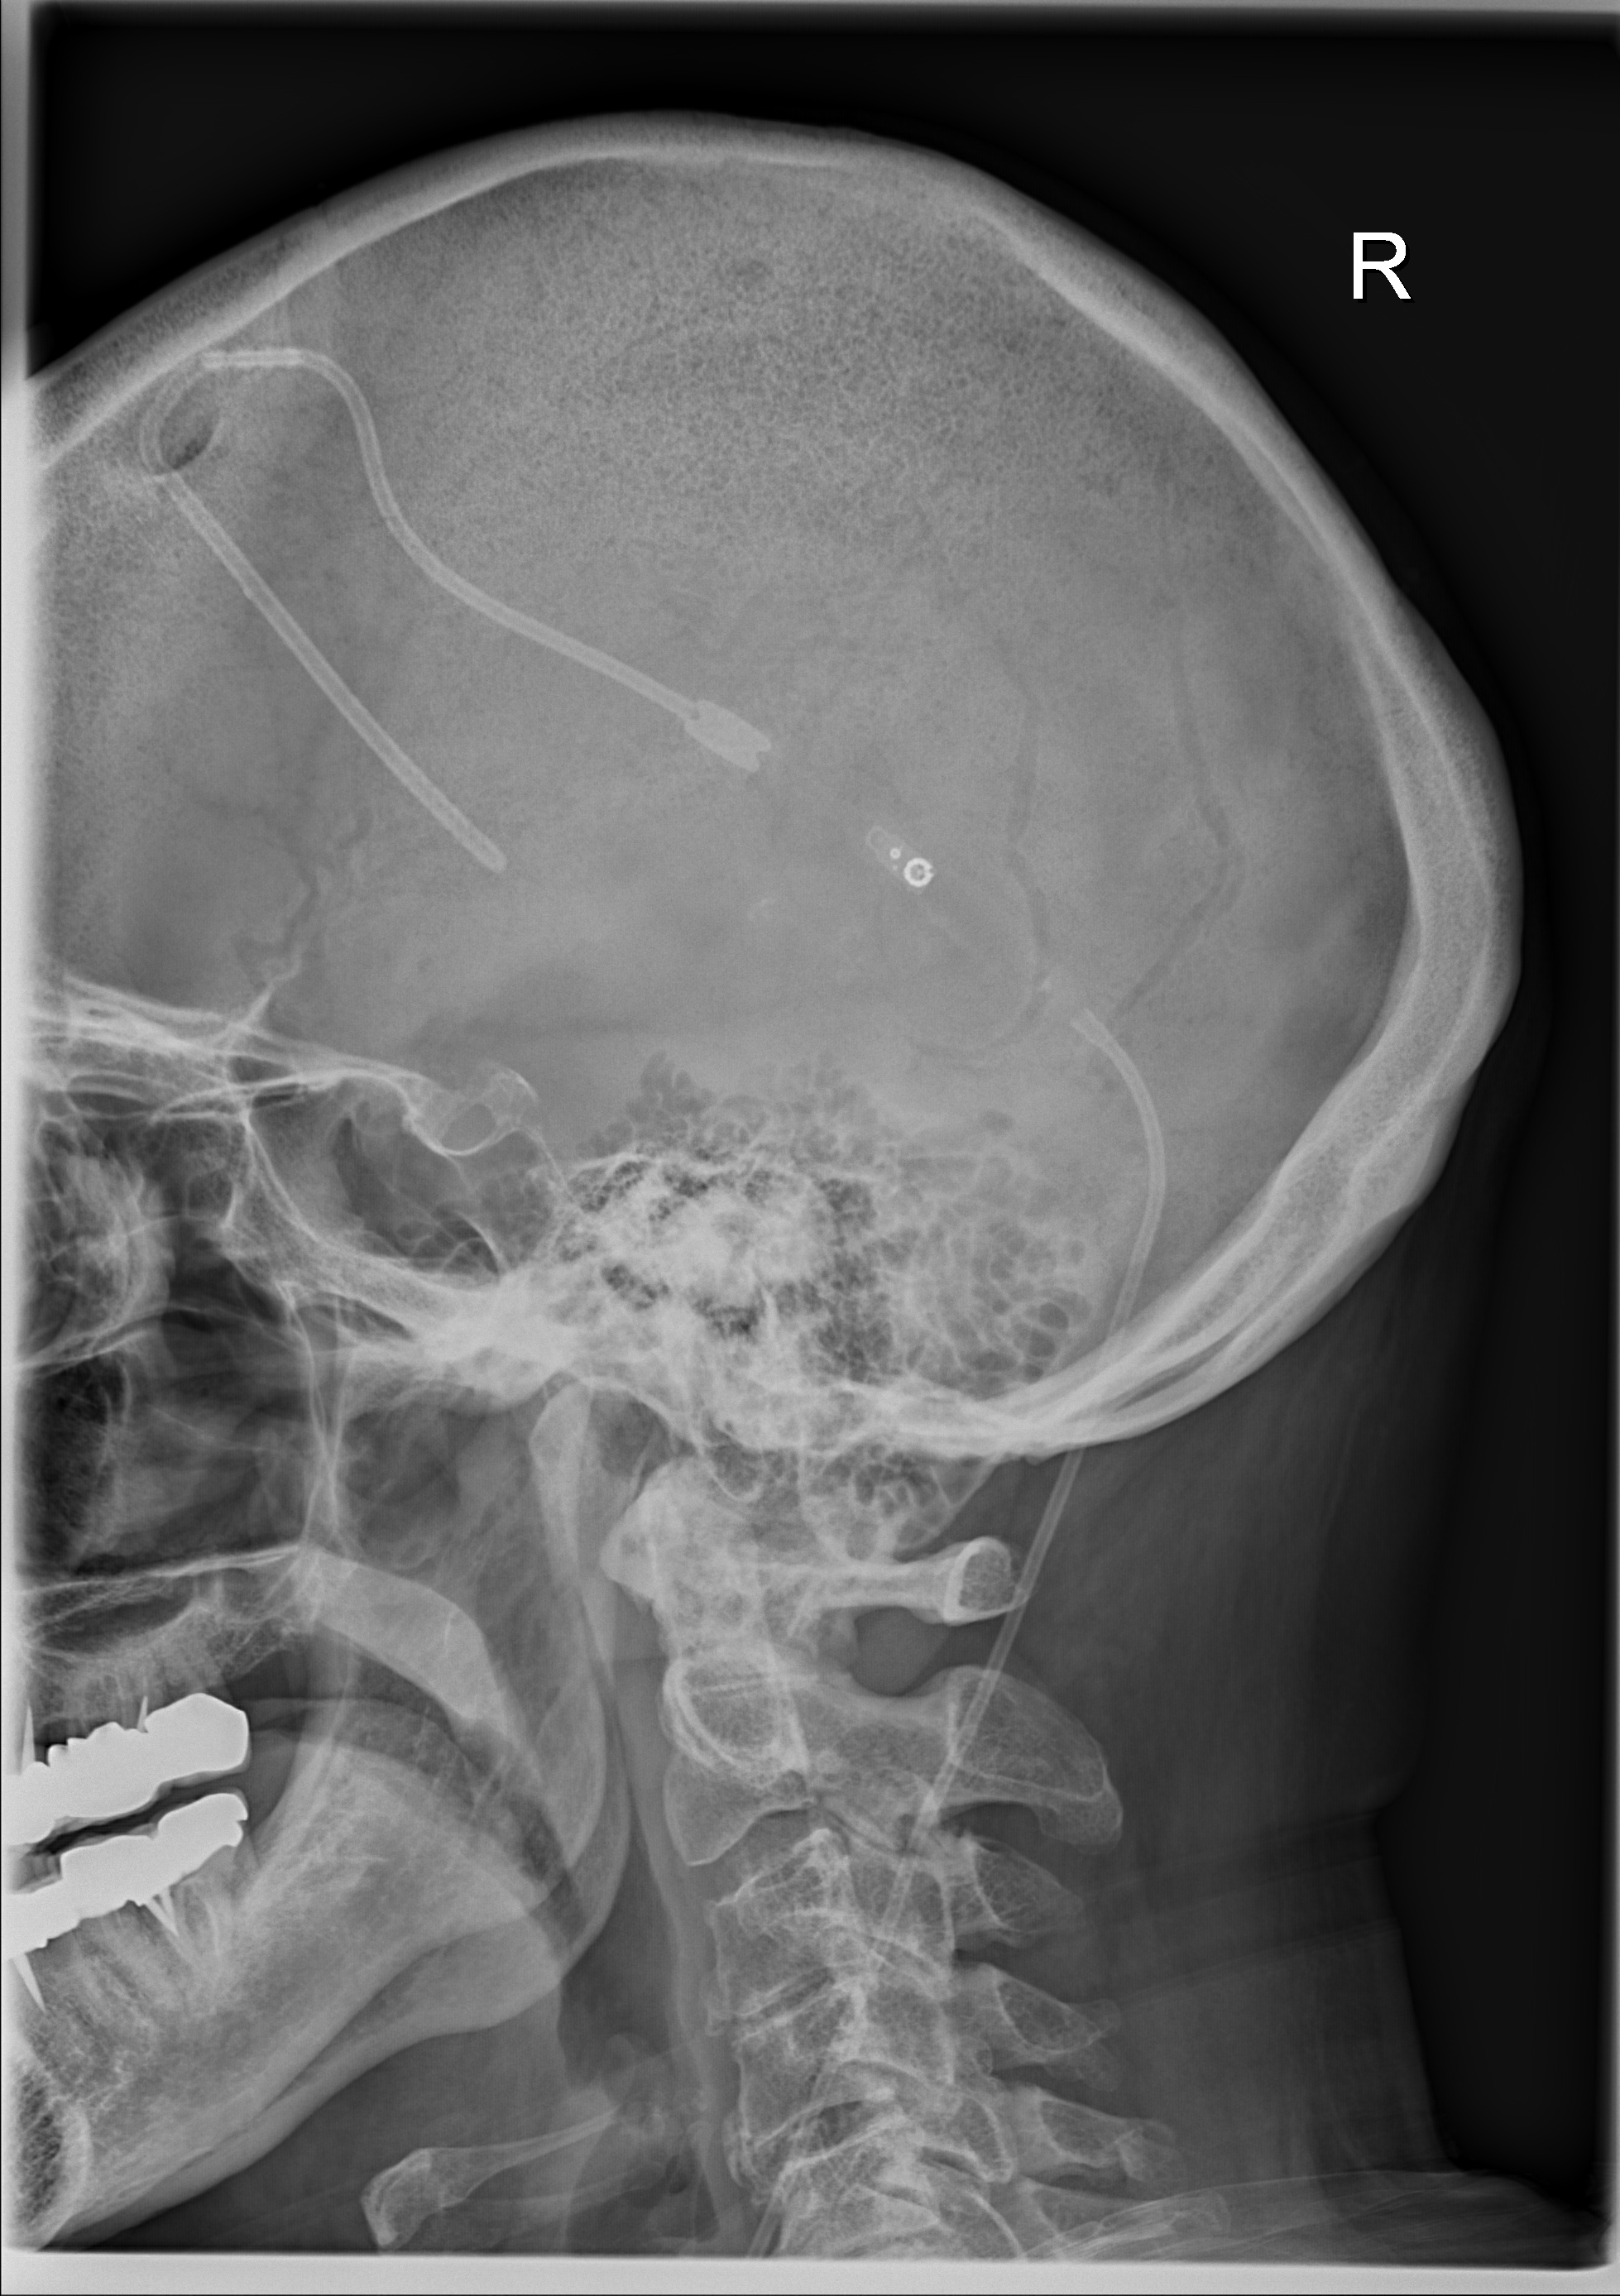Codman Hakim: (870, 829, 949, 915)
